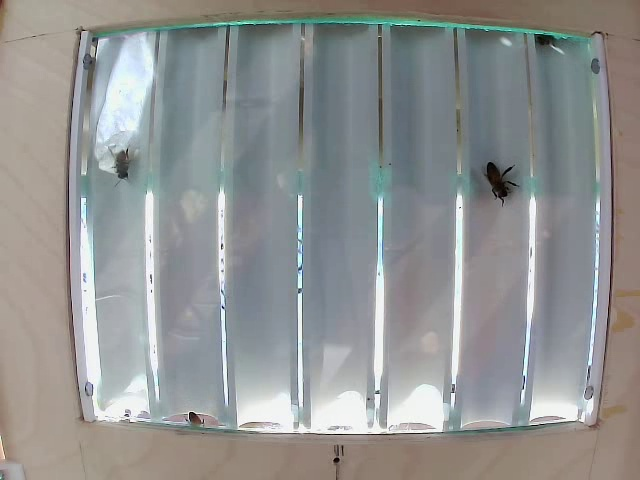bee: (482, 155, 523, 204), (107, 153, 146, 181)
